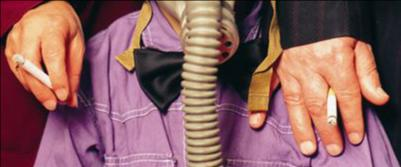Cigarette: (12, 54, 52, 88), (326, 86, 336, 126)
